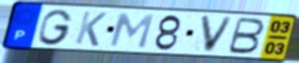8: (154, 14, 182, 51)
B: (225, 16, 267, 56)
G: (37, 8, 75, 46)
K: (73, 9, 110, 48)
M: (107, 11, 156, 50)
V: (198, 14, 236, 55)
